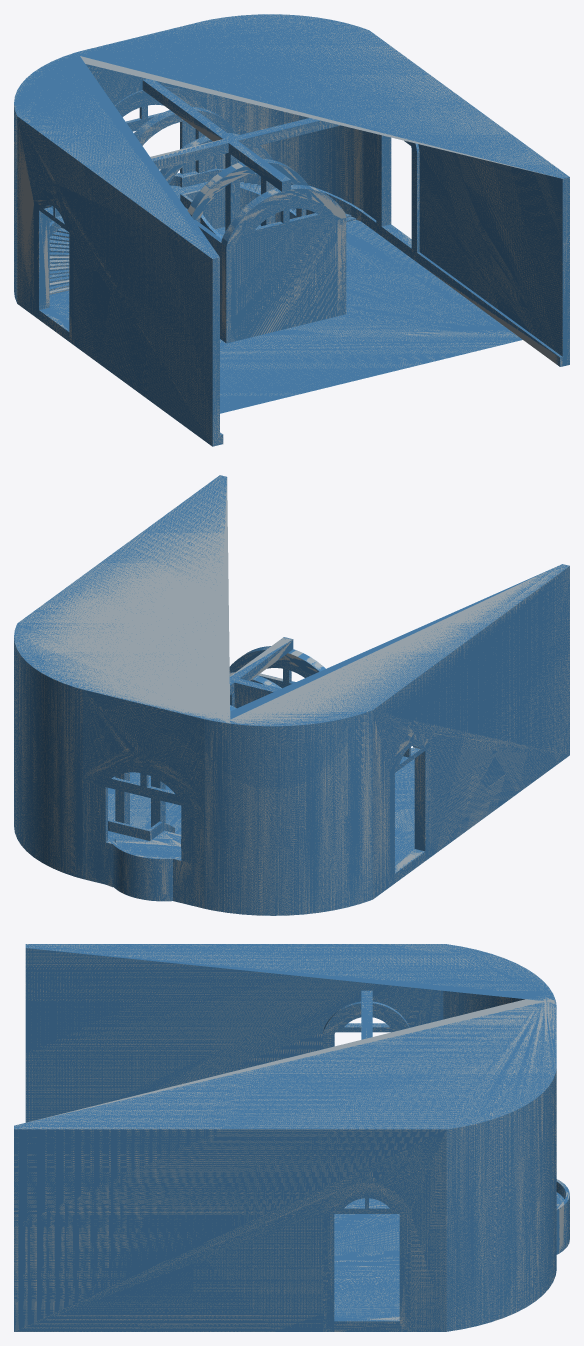
The model's file is Main Stairs for Unity.fbx.
The picture shows the model from 3 angles, top to bottom: view 1: azimuth 30°, elevation 25°; view 2: azimuth 150°, elevation 25°; view 3: azimuth 270°, elevation 25°; orthographic projection. The views are drawn at different scales.
Visible parts, largest first — view 1: Model; view 2: Model; view 3: Model.
Part boxes in pixels (x1,y1,x2,y2): Model: [14, 14, 569, 446]; Model: [14, 475, 569, 915]; Model: [14, 944, 569, 1331].
Size of the model in its own units: 1374 by 703 by 1742.
